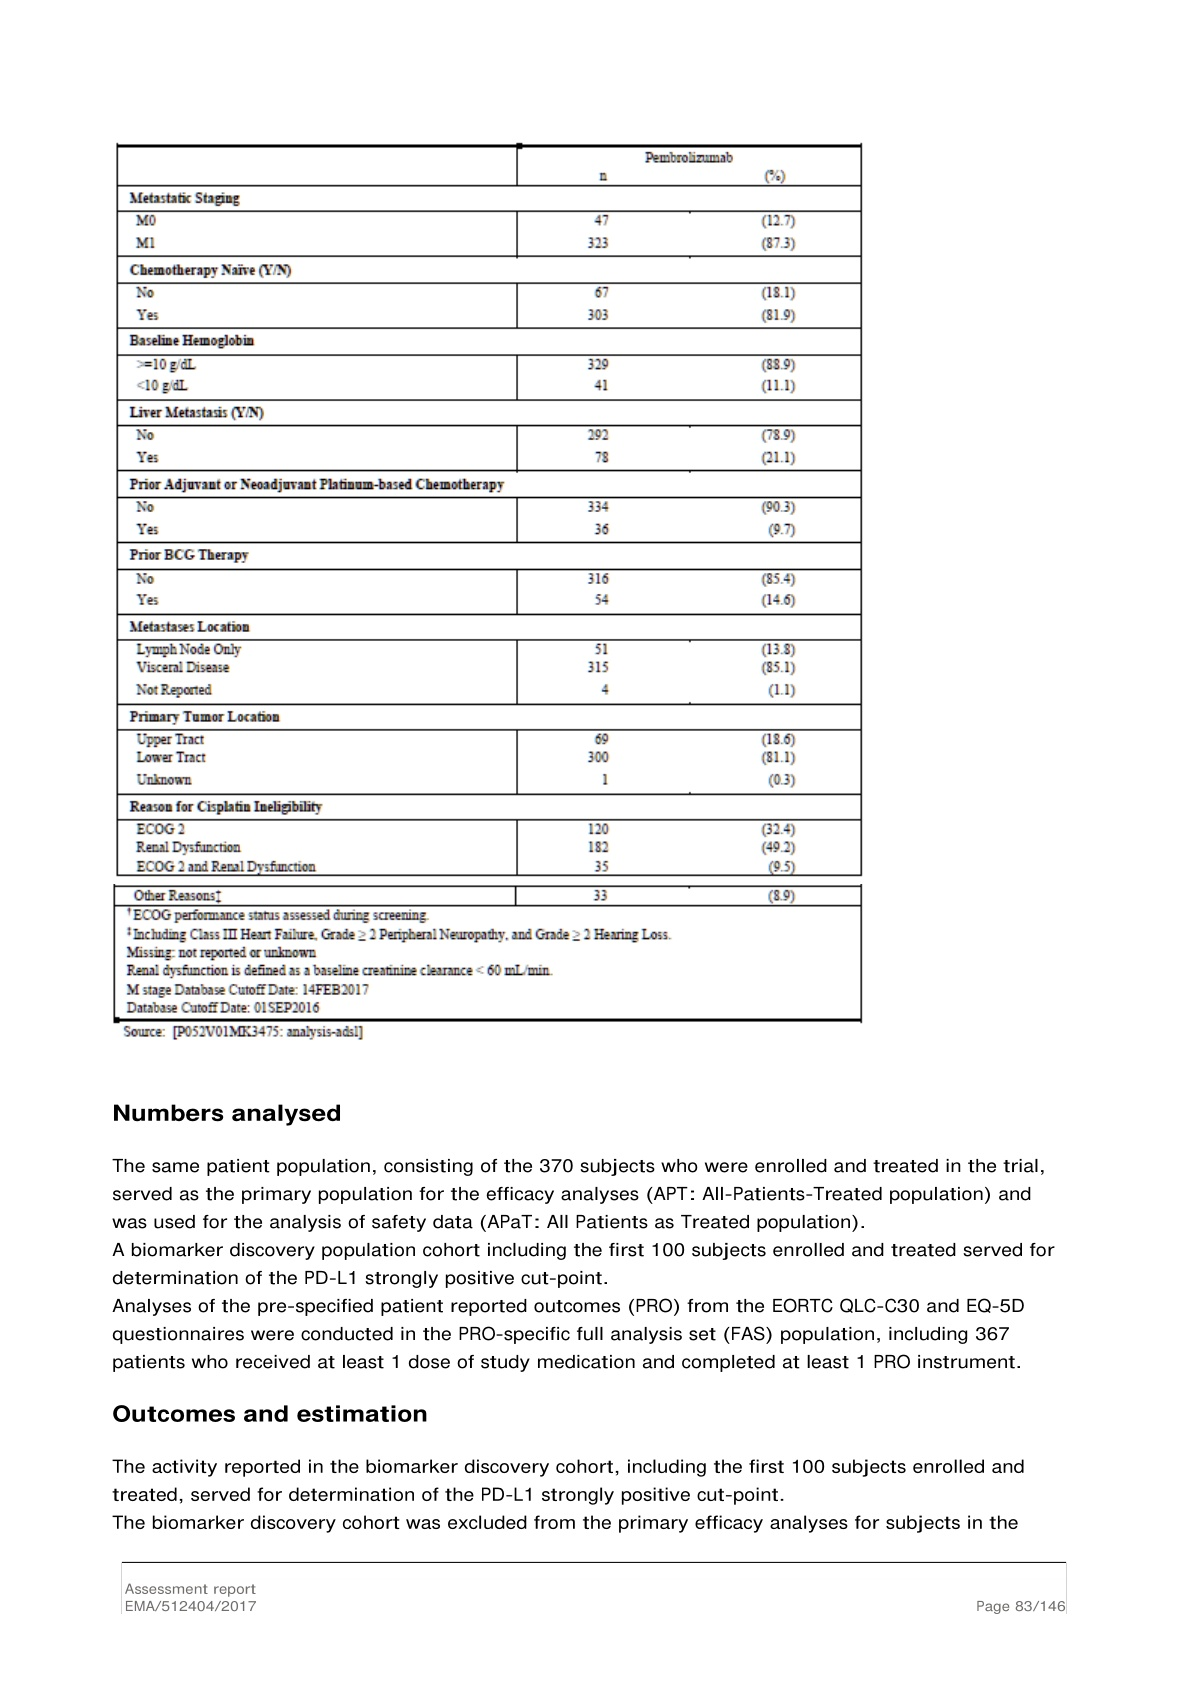partial_lined_merged_cells: (115, 144, 863, 878), (112, 884, 863, 1023)
